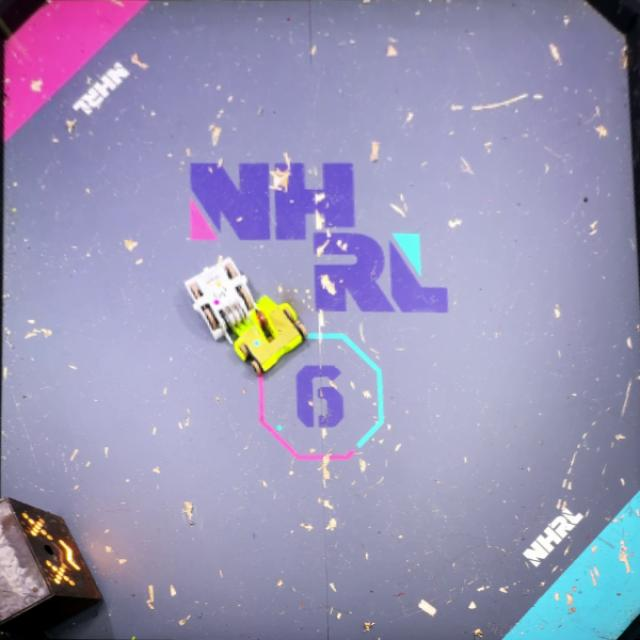housebot: (0, 495, 106, 640)
robot: (184, 258, 258, 344), (233, 294, 309, 376)
